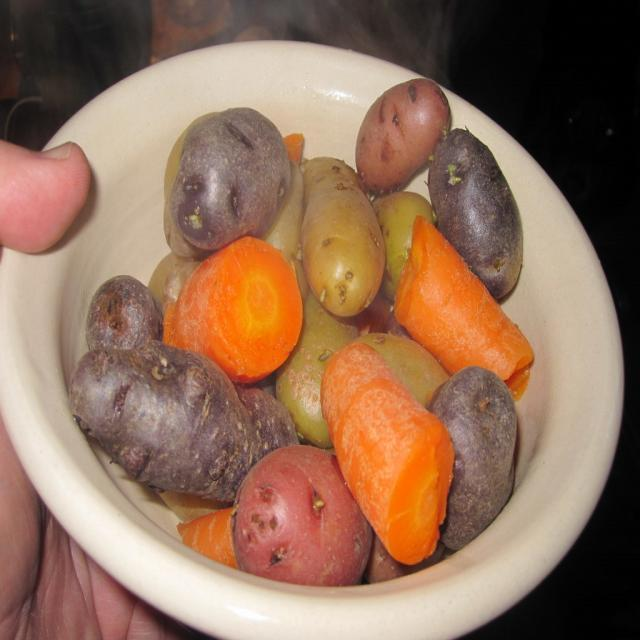Potato: (70, 79, 522, 587), (298, 156, 386, 320)
